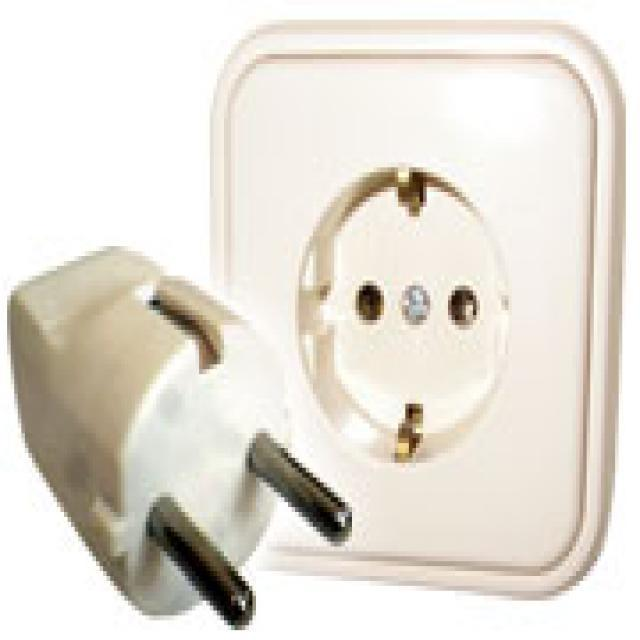typeb: (213, 38, 591, 592)
